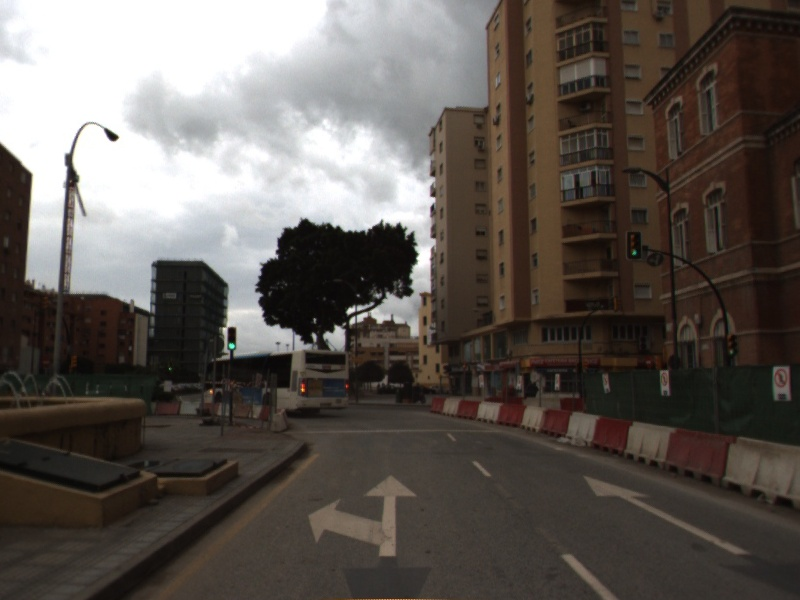STRAIGHT: (580, 473, 753, 557)
STRAIGHT_LEFT: (306, 471, 419, 558)
